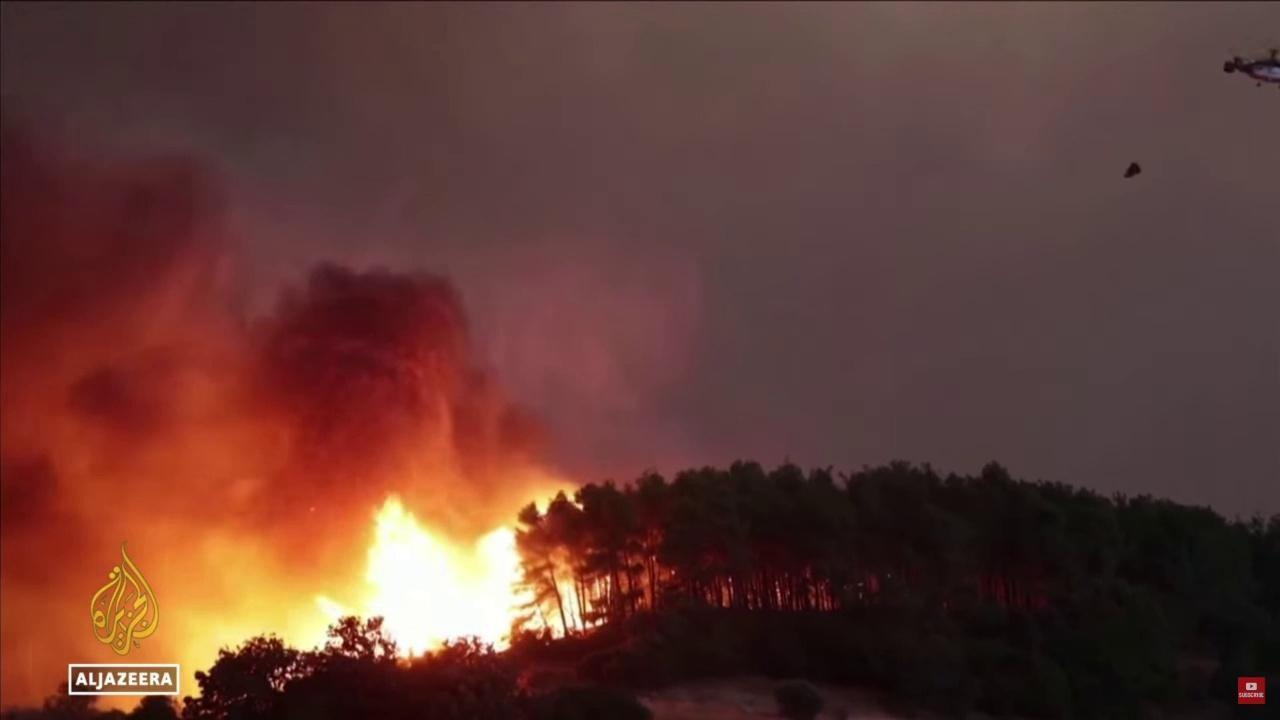fire: (296, 479, 612, 669)
smoke: (0, 116, 703, 720)
